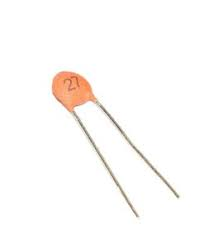ceramic capacitor: (44, 50, 131, 143)
